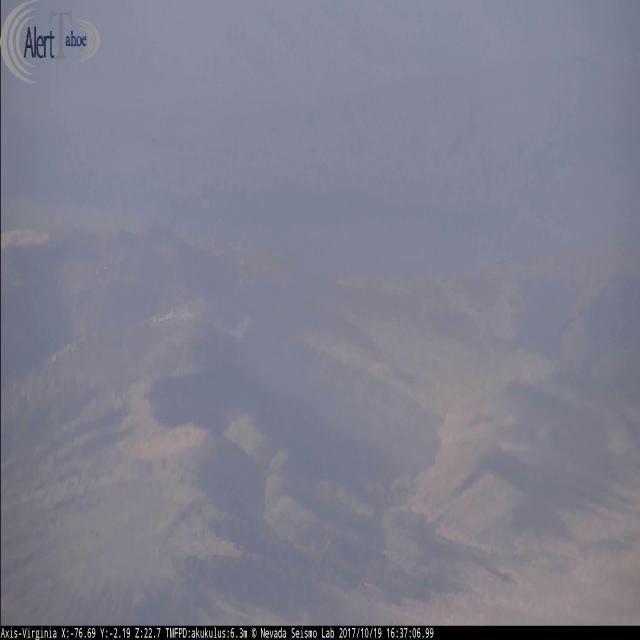smoke: (146, 307, 254, 345)
